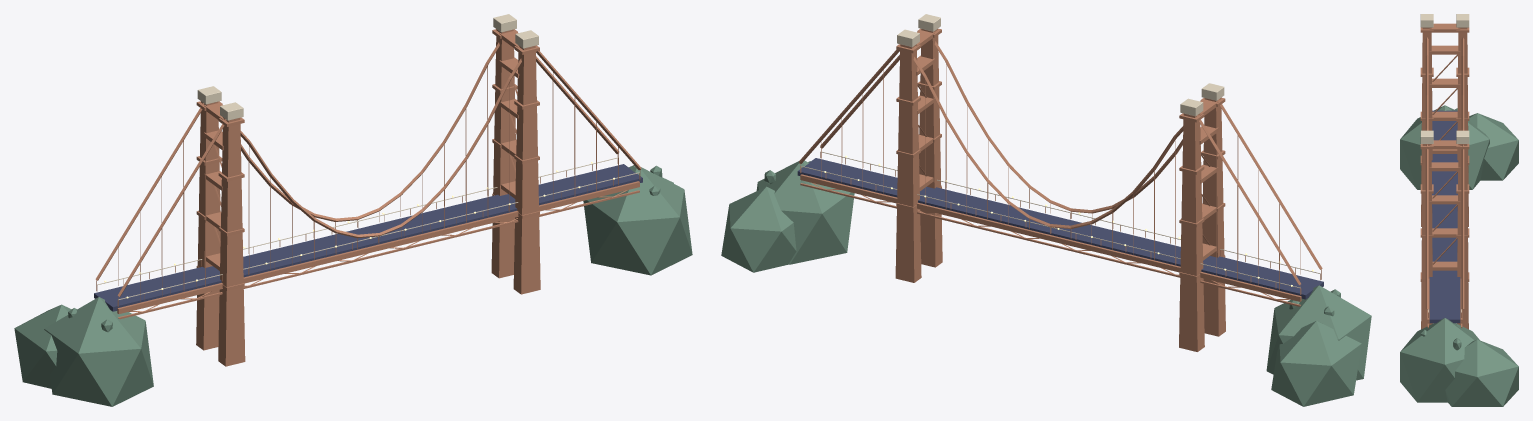
The model's file is sf4_golden_gate_complete.glb.
3 views of the same model, side by side, from view 1: azimuth 30°, elevation 25°; view 2: azimuth 150°, elevation 25°; view 3: azimuth 270°, elevation 25° (orthographic). The views are drawn at different scales.
Visible parts, largest first — view 1: sf4_golden_gate_complete__sf3-burnished-copper, sf4_golden_gate_complete__sf4-mist-sage, sf4_golden_gate_complete__sf3-midnight-indigo, sf4_golden_gate_complete__sf3-warm-ivory; view 2: sf4_golden_gate_complete__sf3-burnished-copper, sf4_golden_gate_complete__sf4-mist-sage, sf4_golden_gate_complete__sf3-midnight-indigo, sf4_golden_gate_complete__sf3-warm-ivory; view 3: sf4_golden_gate_complete__sf4-mist-sage, sf4_golden_gate_complete__sf3-burnished-copper, sf4_golden_gate_complete__sf3-midnight-indigo, sf4_golden_gate_complete__sf3-warm-ivory.
Boxes of the visible parts, <box> form: sf4_golden_gate_complete__sf3-burnished-copper: <box>95,29,641,366</box>; sf4_golden_gate_complete__sf4-mist-sage: <box>14,165,692,406</box>; sf4_golden_gate_complete__sf3-midnight-indigo: <box>94,164,642,311</box>; sf4_golden_gate_complete__sf3-warm-ivory: <box>97,14,639,299</box>; sf4_golden_gate_complete__sf3-burnished-copper: <box>799,28,1322,351</box>; sf4_golden_gate_complete__sf4-mist-sage: <box>721,160,1371,406</box>; sf4_golden_gate_complete__sf3-midnight-indigo: <box>797,158,1323,299</box>; sf4_golden_gate_complete__sf3-warm-ivory: <box>800,14,1320,288</box>; sf4_golden_gate_complete__sf4-mist-sage: <box>1400,105,1518,406</box>; sf4_golden_gate_complete__sf3-burnished-copper: <box>1420,23,1469,329</box>; sf4_golden_gate_complete__sf3-midnight-indigo: <box>1429,110,1460,323</box>; sf4_golden_gate_complete__sf3-warm-ivory: <box>1420,14,1469,312</box>.
Size of the model in its own units: 150 by 56 by 29.27.
